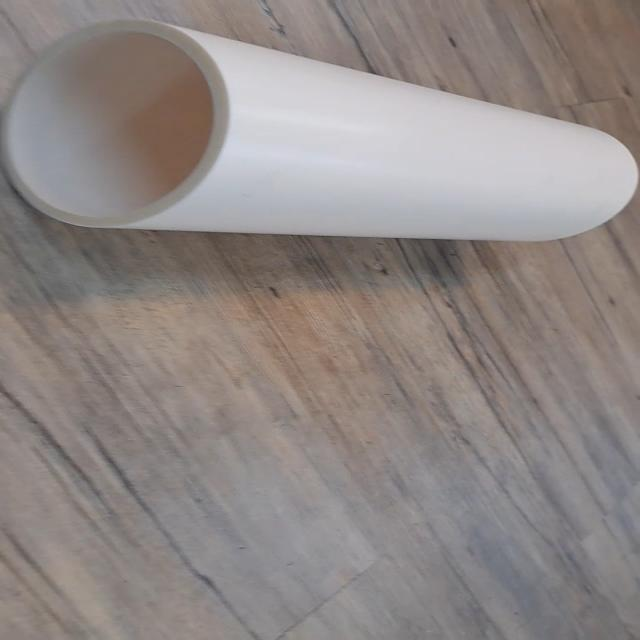CORAL: (3, 12, 640, 251)
